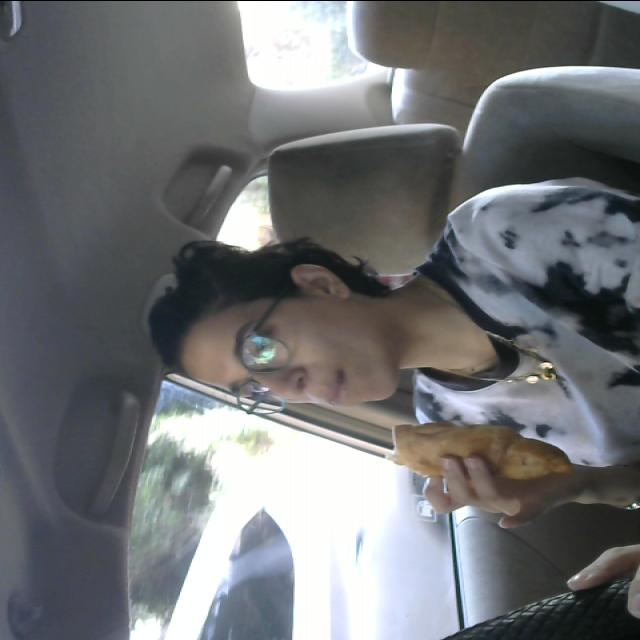eating: (380, 414, 576, 492)
